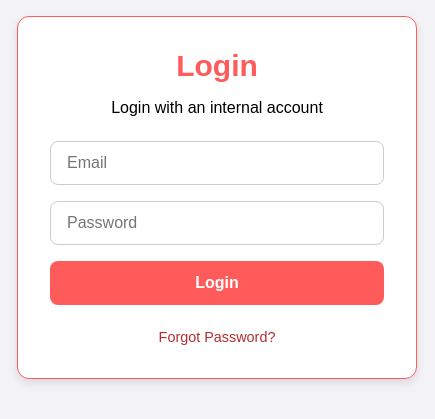
Test: LoginPage - Functions and Logic › Xử lý đăng nhập thất bại và hiển thị thông báo lỗi
This screenshot has width=435, height=419.
# Nhập thông tin đăng nhập không hợp lệ
Type "user@example.com" into the field with placeholder "Email" at (217, 163), box [50,141,384,185]
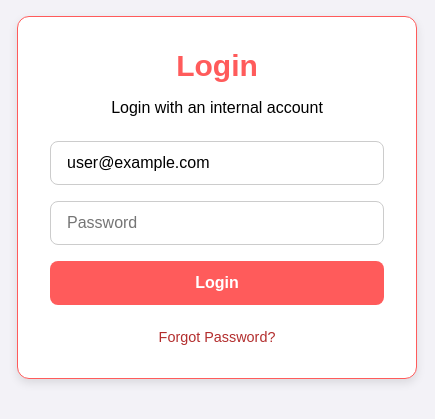
Type "wrongpassword" into the password field with placeholder "Password" at (217, 223), box [50,201,384,245]
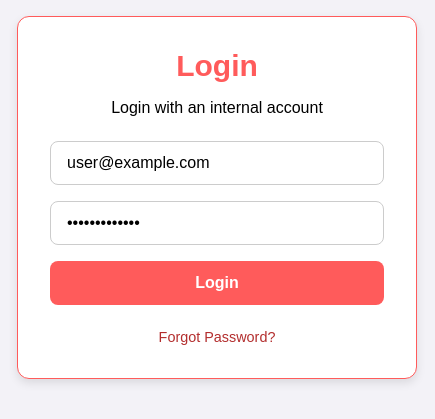
# Gửi form
Click the button "Login" at (217, 283), box [50,261,384,305]
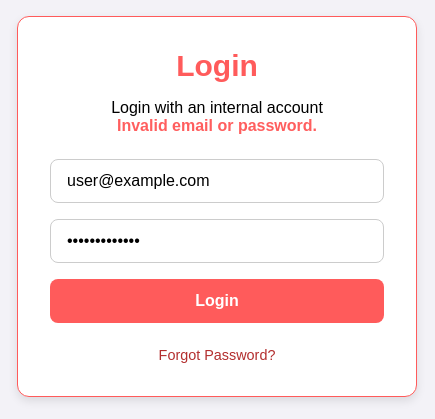
Expected: the text "Invalid email or password." is shown, [117,117,317,134]
